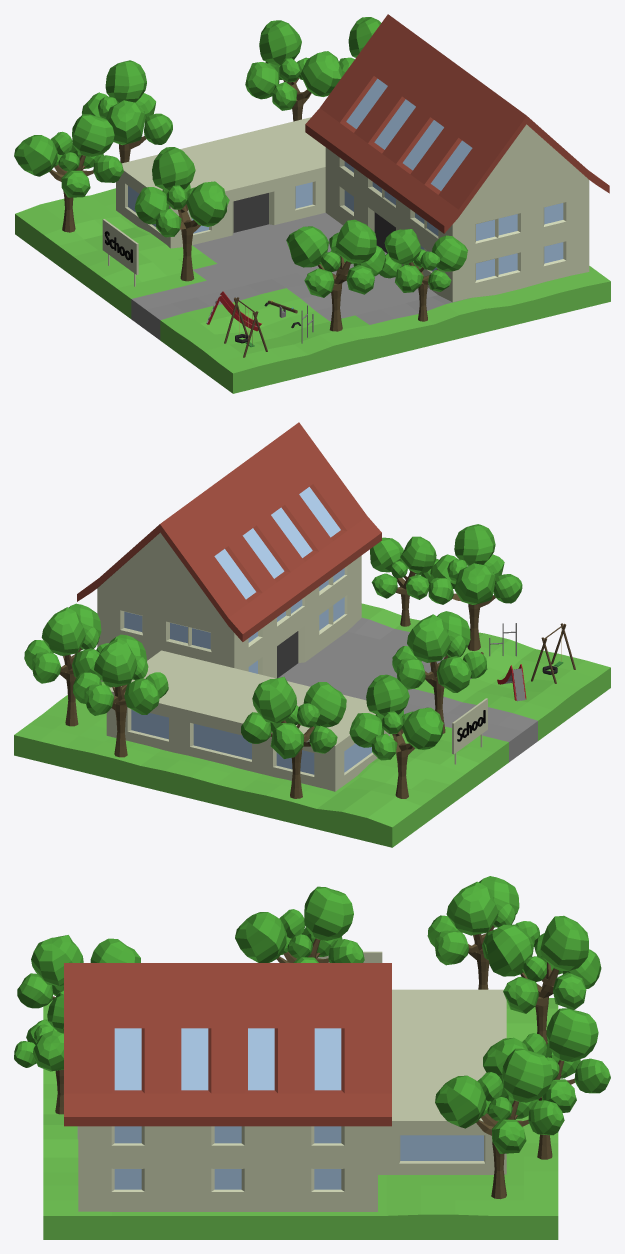
The model's file is School_3.fbx.
The picture shows the model from 3 angles, top to bottom: view 1: azimuth 30°, elevation 25°; view 2: azimuth 150°, elevation 25°; view 3: azimuth 270°, elevation 25°; orthographic projection. The views are drawn at different scales.
Parts seen in each view (by area): view 1: Cube.001, Plane, Cube.000; view 2: Cube.001, Plane, Cube.000; view 3: Cube.001, Plane.
Part boxes in pixels (left/top/right/bottom): Cube.001: left=15, top=14, right=610, bottom=393; Plane: left=14, top=17, right=467, bottom=331; Cube.000: left=102, top=219, right=138, bottom=286; Cube.001: left=14, top=422, right=610, bottom=847; Plane: left=24, top=524, right=522, bottom=798; Cube.000: left=452, top=698, right=487, bottom=764; Cube.001: left=43, top=963, right=558, bottom=1239; Plane: left=14, top=876, right=610, bottom=1199.
Size of the model in its own units: 1786 by 823 by 1905.
